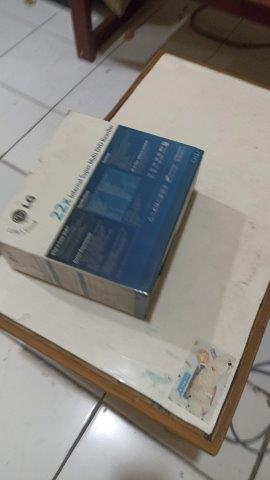kardus: (1, 110, 204, 319)
